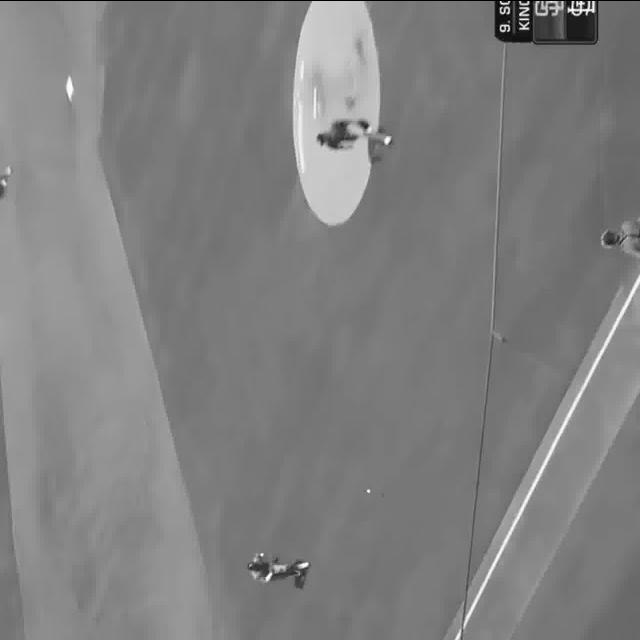baseball: (366, 488, 372, 492)
shoe: (301, 559, 310, 569), (387, 136, 393, 142)
